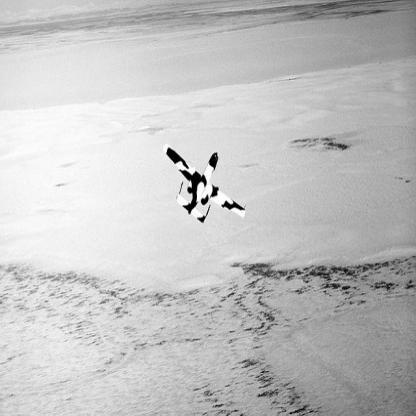A10: (163, 144, 248, 226)
